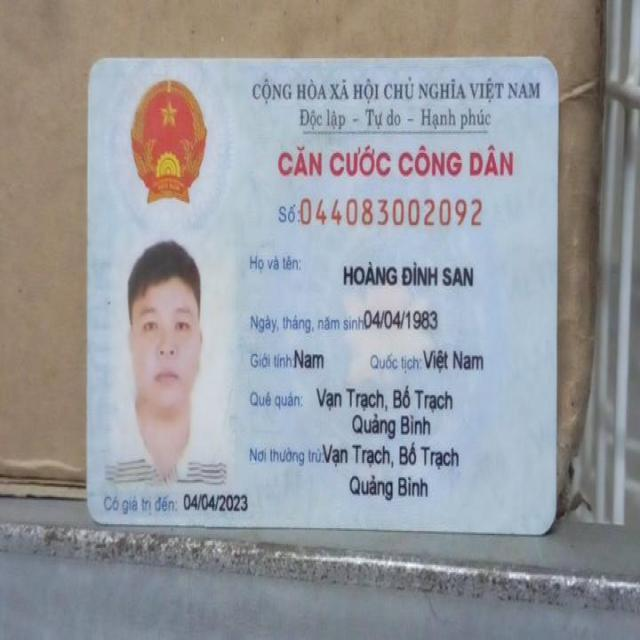bottom_left: (76, 490, 116, 532)
bottom_right: (526, 504, 562, 544)
image_person: (110, 232, 240, 488)
top_left: (76, 44, 112, 84)
top_right: (529, 40, 567, 82)
